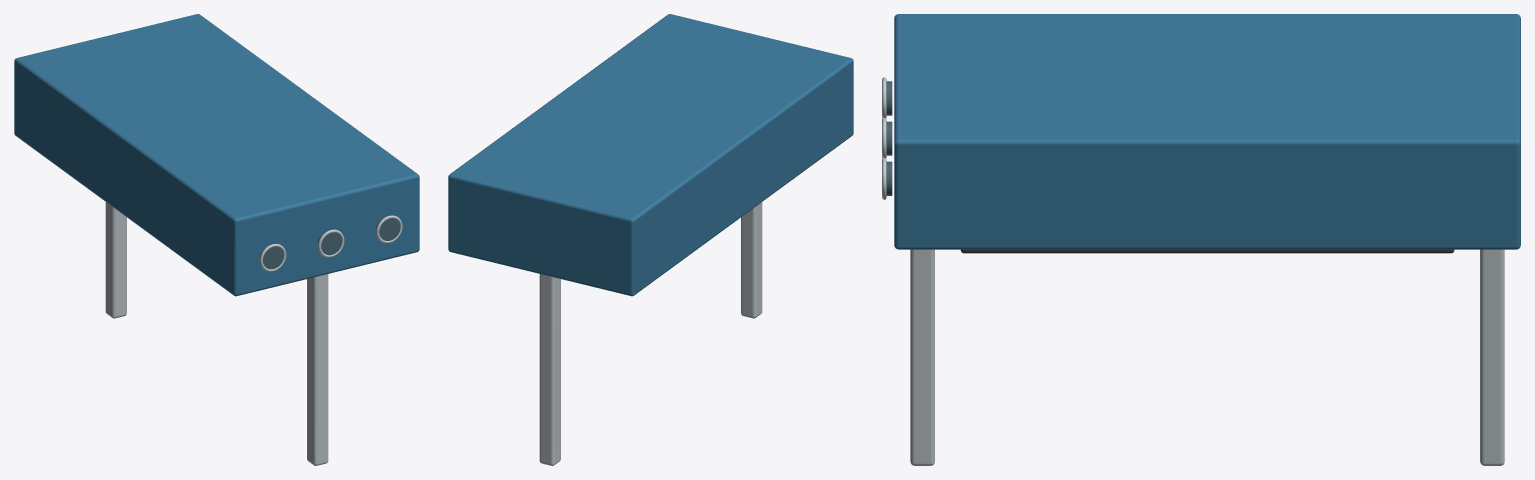
The model's file is recycling-centre-and-material-sorting-optical-sorting--37a5b270__31119.glb.
3 views of the same model, side by side, from view 1: azimuth 30°, elevation 25°; view 2: azimuth 150°, elevation 25°; view 3: azimuth 270°, elevation 25° (orthographic). The views are drawn at different scales.
Parts seen in each view (by area): view 1: optical-sorting-hood; view 2: optical-sorting-hood; view 3: optical-sorting-hood.
Part boxes in pixels (x1=…): optical-sorting-hood: x1=14, y1=14, x2=419, y2=465; optical-sorting-hood: x1=448, y1=14, x2=853, y2=465; optical-sorting-hood: x1=882, y1=14, x2=1520, y2=465.
Bounding box in the file's own units: 0.7999 × 1.12 × 1.68.
